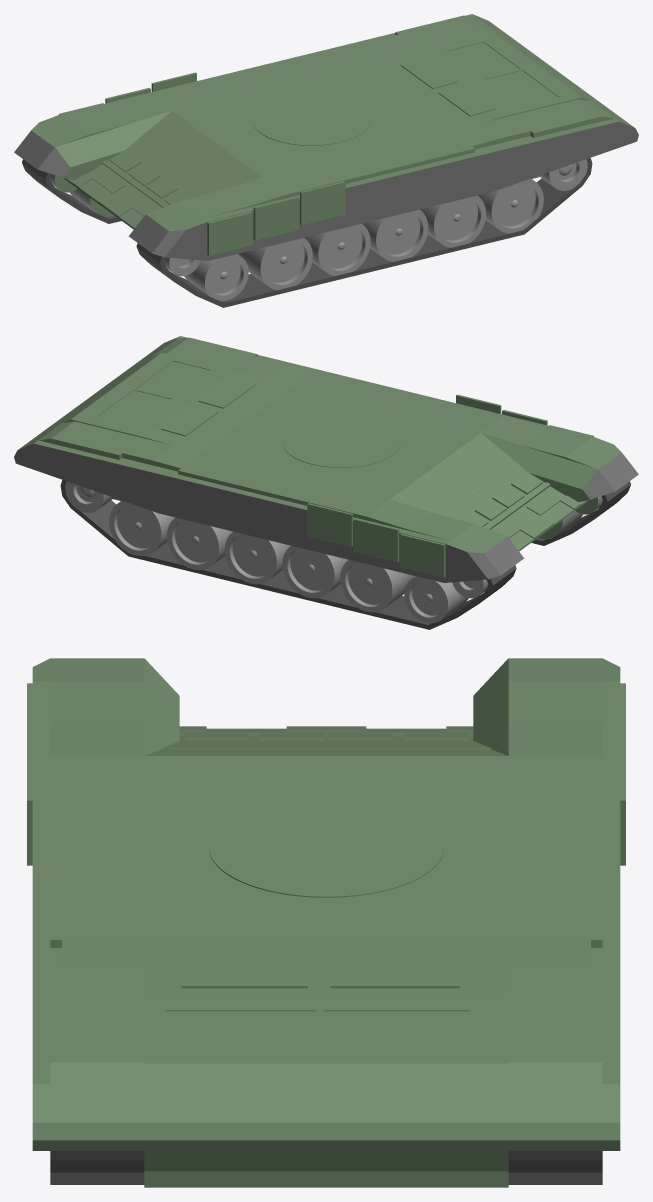
The model's file is 90 корпус.fbx.
3 views of the same model, one above another, from view 1: azimuth 30°, elevation 25°; view 2: azimuth 150°, elevation 25°; view 3: azimuth 270°, elevation 25° (orthographic). The views are drawn at different scales.
Visible parts, largest first — view 1: Tracks; view 2: Tracks; view 3: Tracks.
Boxes of the visible parts, x1=… form: Tracks: x1=14, y1=14, x2=638, y2=307; Tracks: x1=14, y1=336, x2=638, y2=629; Tracks: x1=27, y1=658, x2=625, y2=1187.
Size of the model in its own units: 1348 by 272 by 725.
